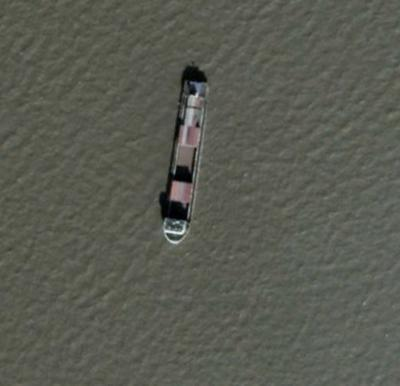Boat: (154, 78, 214, 248)
